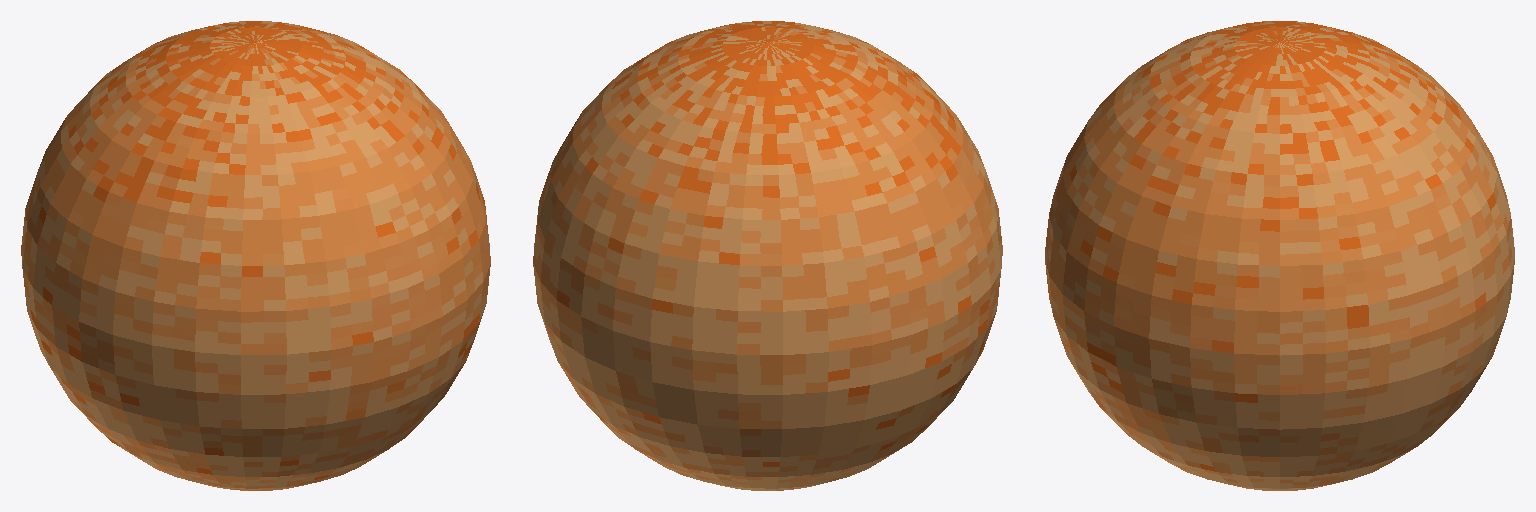
The picture shows the model from 3 angles: view 1: azimuth 30°, elevation 25°; view 2: azimuth 150°, elevation 25°; view 3: azimuth 270°, elevation 25°; orthographic projection.
Parts seen in each view (by area): view 1: 球; view 2: 球; view 3: 球.
Part boxes in pixels (left/top/right/bottom): 球: left=21, top=21, right=490, bottom=490; 球: left=533, top=21, right=1002, bottom=490; 球: left=1045, top=21, right=1514, bottom=490.
Bounding box in the file's own units: 2 × 2 × 2.
Materials: 1 (1 with a texture image).